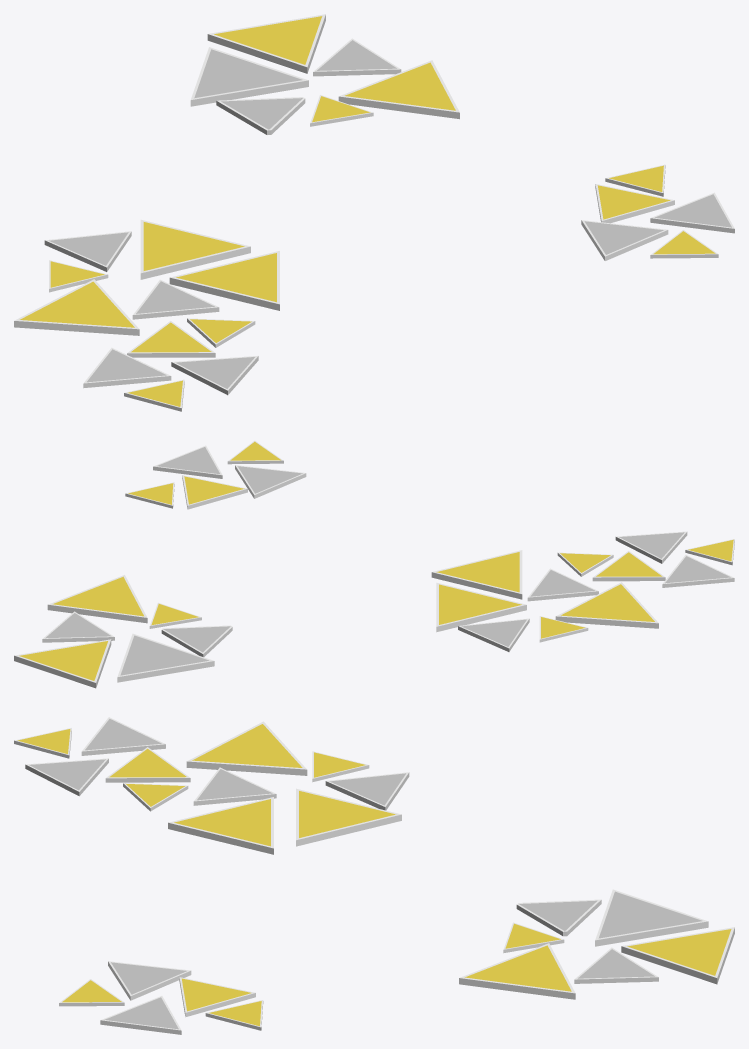
File: s_platform.obj
3 views of the same model, one above another, from view 1: azimuth 30°, elevation 25°; view 2: azimuth 150°, elevation 25°; view 3: azimuth 270°, elevation 25° (orthographic). The views are drawn at different scales.
Parts seen in each view (by area): view 1: Cylinder.024_m_yellow, Cylinder.024_m_white, Cylinder.024_m_babyblue; view 2: Cylinder.024_m_yellow, Cylinder.024_m_white, Cylinder.024_m_babyblue; view 3: Cylinder.024_m_yellow, Cylinder.024_m_white, Cylinder.024_m_babyblue.
Boxes of the visible parts, x1=… form: Cylinder.024_m_yellow: x1=20, y1=16, x2=715, y2=406; Cylinder.024_m_white: x1=14, y1=14, x2=734, y2=411; Cylinder.024_m_babyblue: x1=49, y1=40, x2=731, y2=388; Cylinder.024_m_yellow: x1=19, y1=441, x2=733, y2=680; Cylinder.024_m_white: x1=14, y1=440, x2=734, y2=688; Cylinder.024_m_babyblue: x1=45, y1=447, x2=730, y2=675; Cylinder.024_m_yellow: x1=17, y1=724, x2=731, y2=1026; Cylinder.024_m_white: x1=14, y1=717, x2=734, y2=1034; Cylinder.024_m_babyblue: x1=29, y1=719, x2=702, y2=1029.
Size of the model in its own units: 52.6 by 0.4958 by 51.12.
